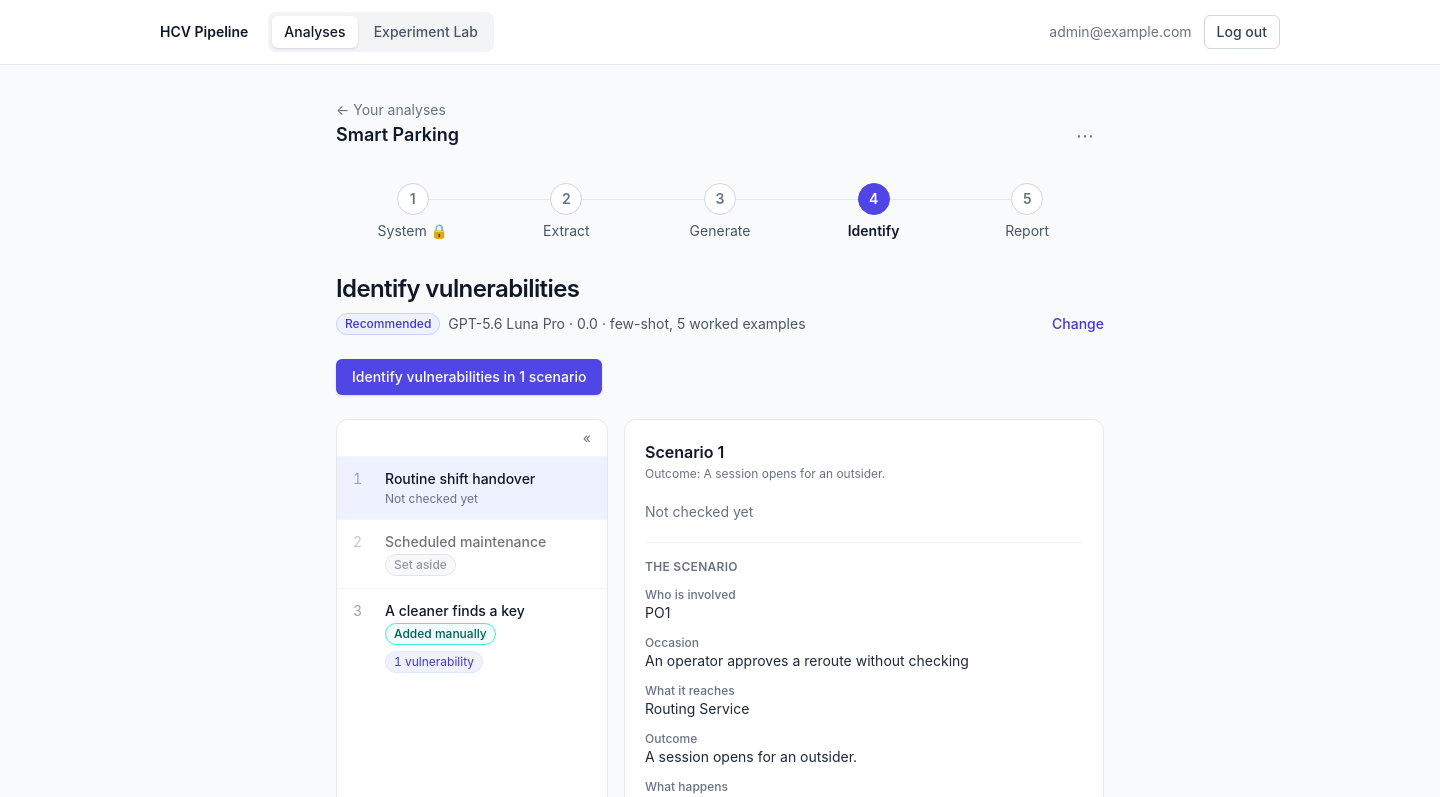
Wide screens: list and detail › shows labels of the chosen scenario on the Label step
Click the button "3 A cleaner finds a key Added manually 1 vulnerability" at (473, 637), box [337,589,609,685]
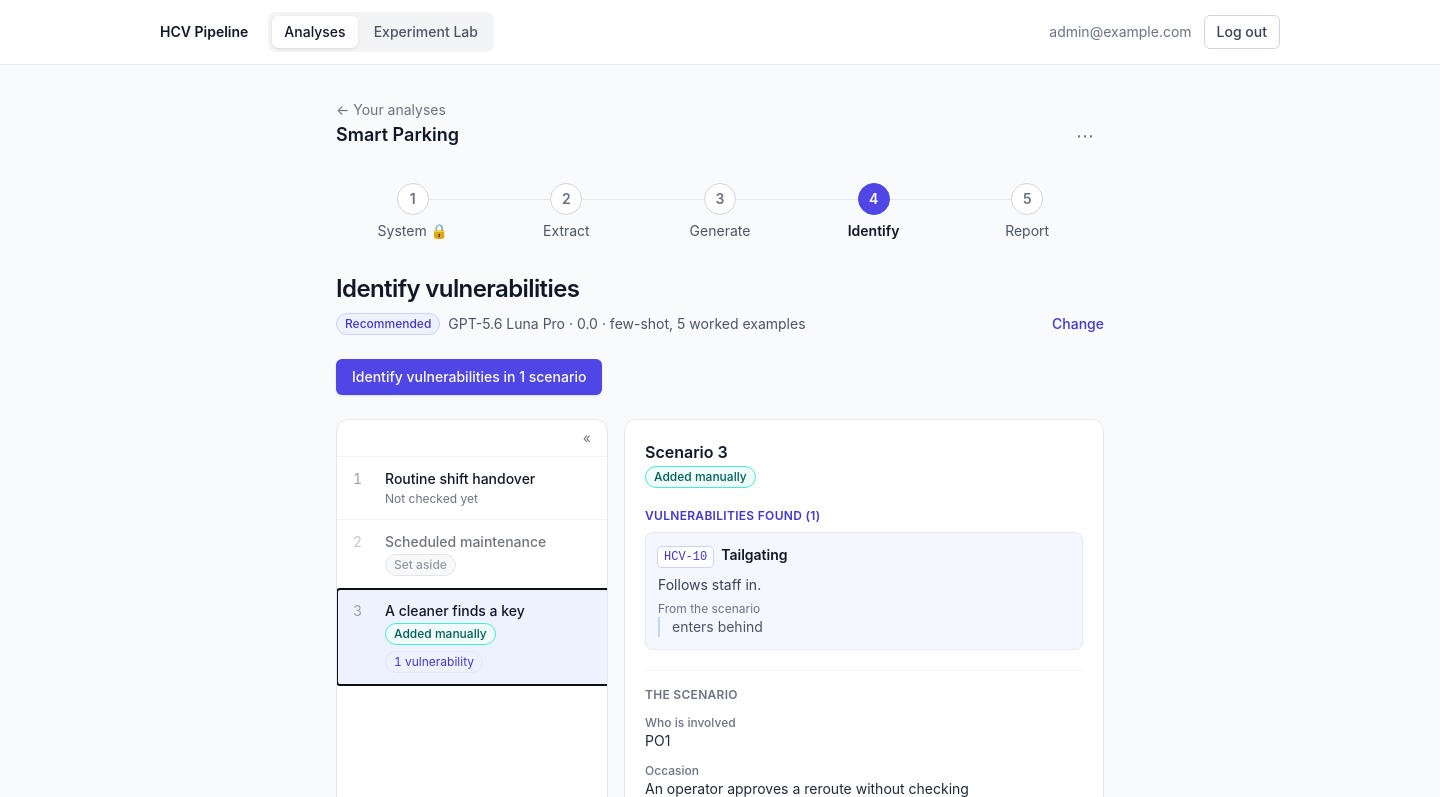
Check: the text "Tailgating" is shown, box [721,545,788,565]
Check: the button "enters behind" is shown, box [672,617,763,637]
